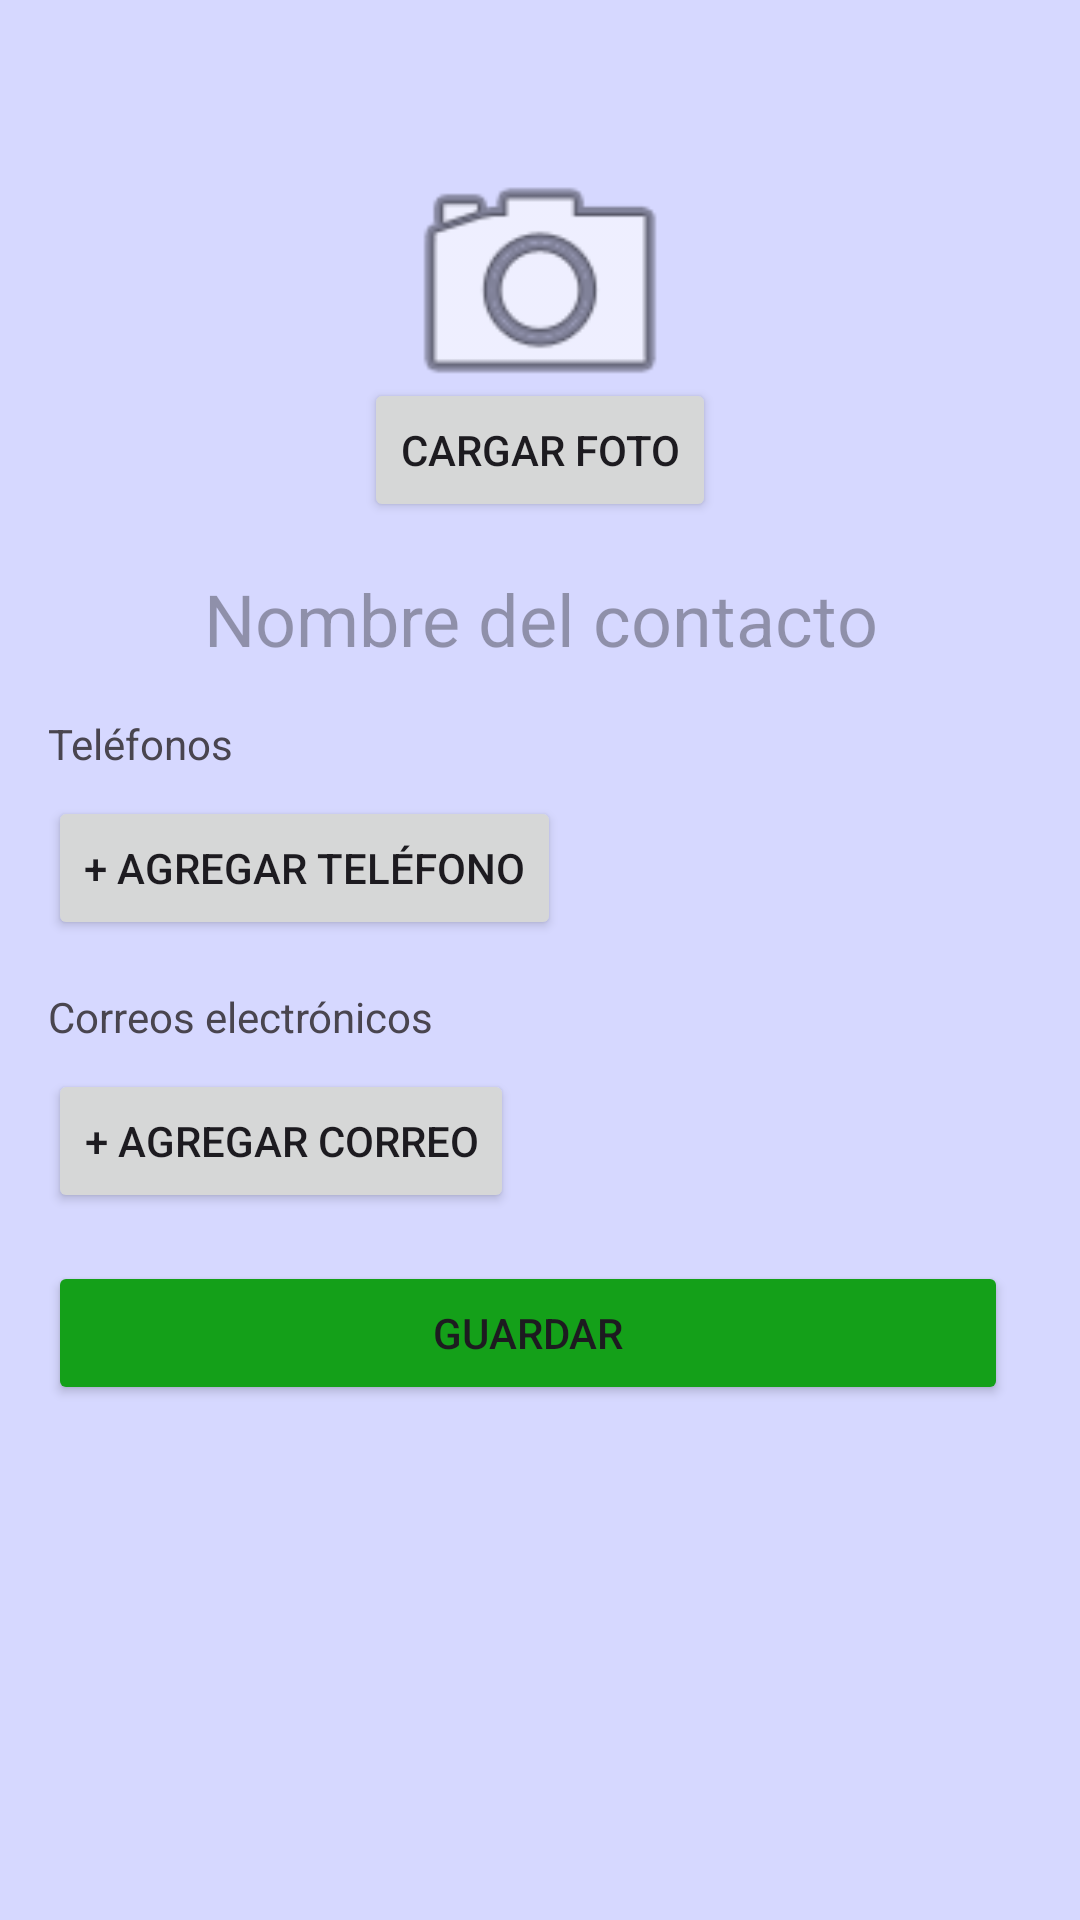

Where to tap for icons on this 1080w x 1920h app screen, as [x,y]:
camera: [540,280]
